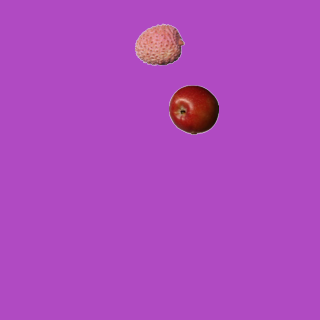Apple Braeburn: (168, 84, 218, 134)
Lychee: (134, 19, 184, 69)
